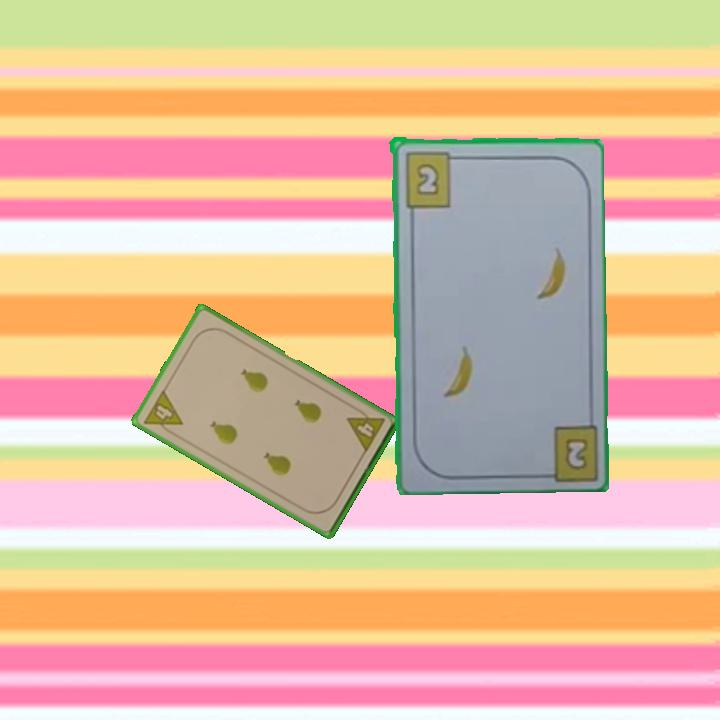2b: (401, 147, 462, 209), (561, 434, 591, 473)
4p: (140, 386, 185, 439), (343, 403, 387, 456)
